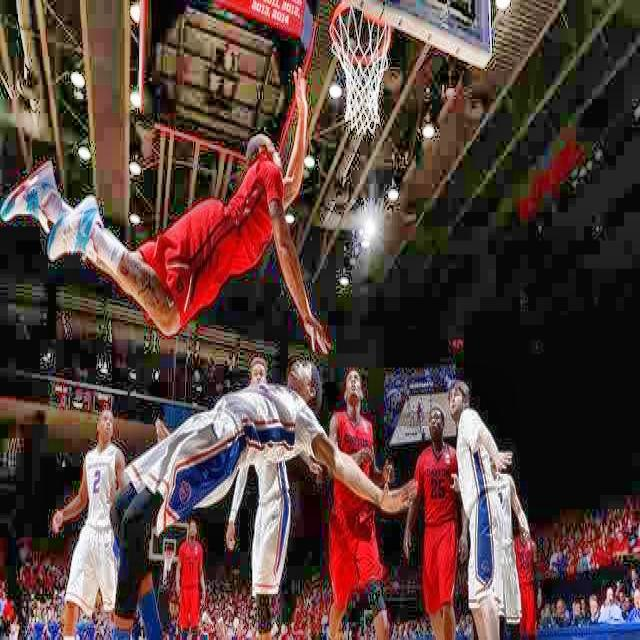rim: (331, 2, 390, 131)
